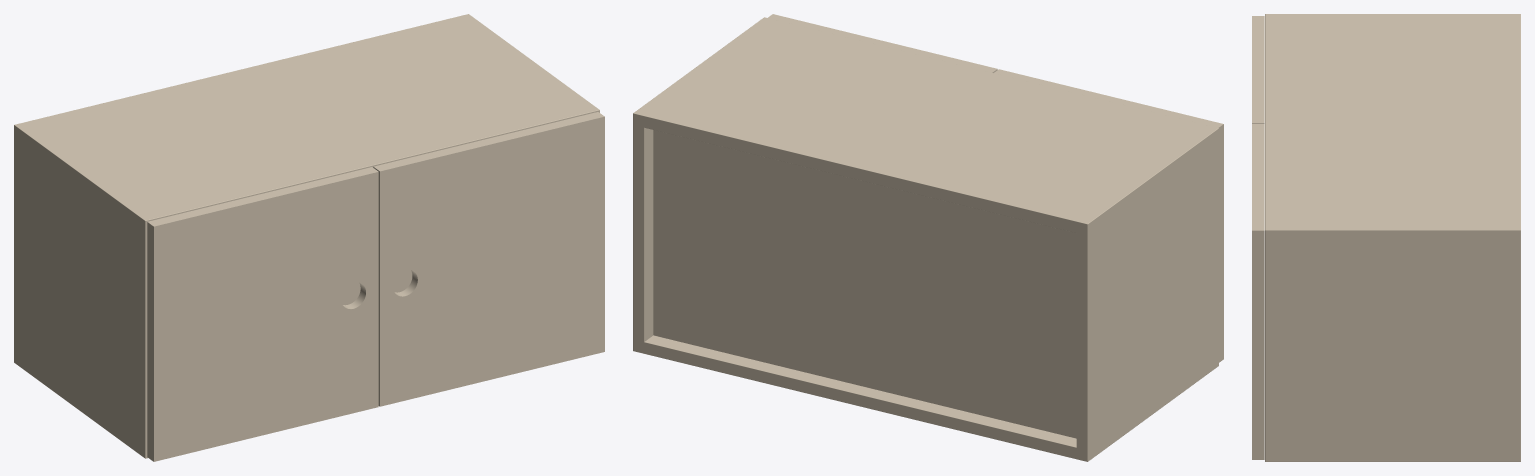
File: MOD-2X1-D-B-AR.glb
3 views of the same model, side by side, from view 1: azimuth 30°, elevation 25°; view 2: azimuth 150°, elevation 25°; view 3: azimuth 270°, elevation 25° (orthographic). The views are drawn at different scales.
Bounding box in the file's own units: 720 × 360 × 378.
